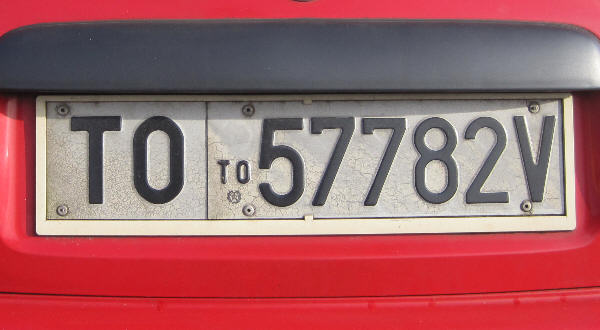license_plate: (35, 92, 577, 233)
